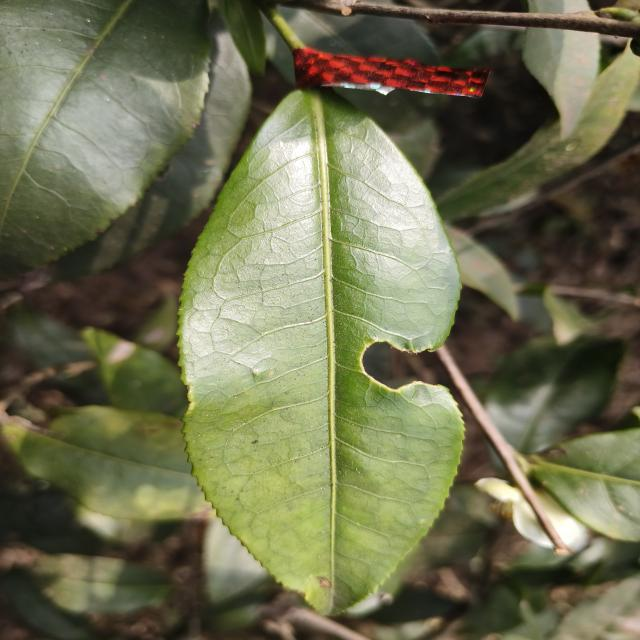Leaf: (179, 89, 463, 615), (0, 0, 209, 276), (436, 50, 640, 220), (3, 405, 207, 520), (485, 336, 625, 454), (529, 428, 640, 541), (81, 328, 188, 418), (278, 6, 440, 65), (32, 554, 173, 613), (523, 28, 599, 137), (445, 223, 519, 320), (203, 515, 268, 604), (334, 87, 451, 132), (11, 309, 93, 368), (266, 22, 295, 85), (528, 0, 588, 12)
